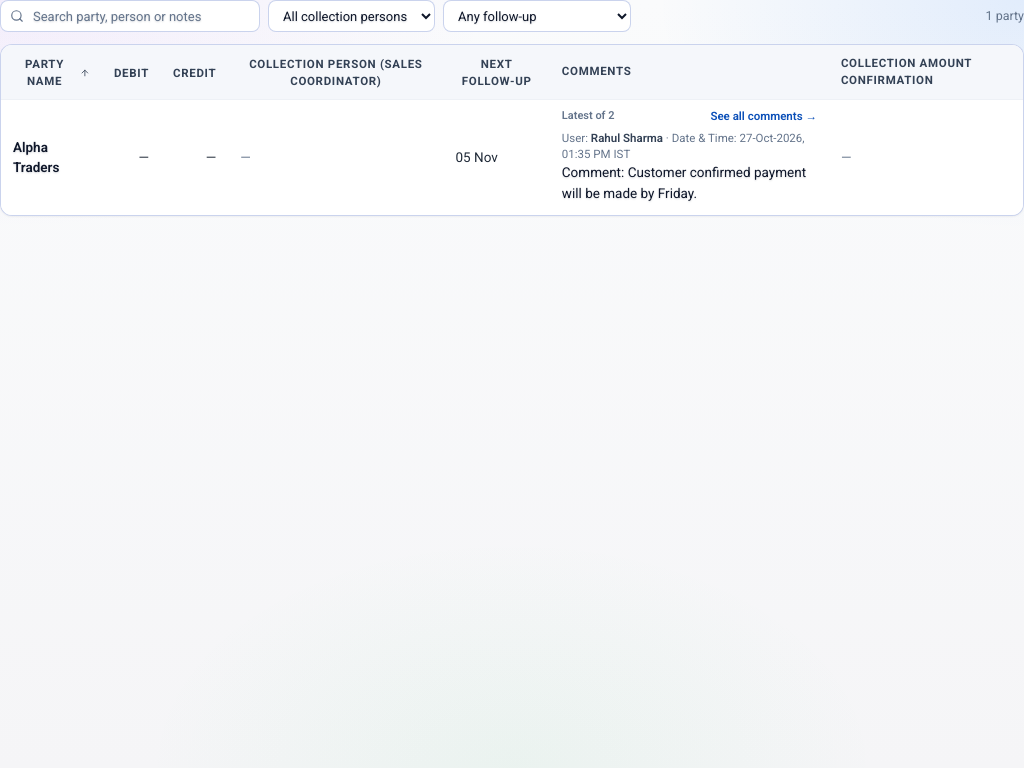
Test case: Party popup History › each entry shows who, date & time and the comment (no user id); a date-only entry shows its next date
Click the button "Alpha Traders": (51,157) [13,137,90,177]
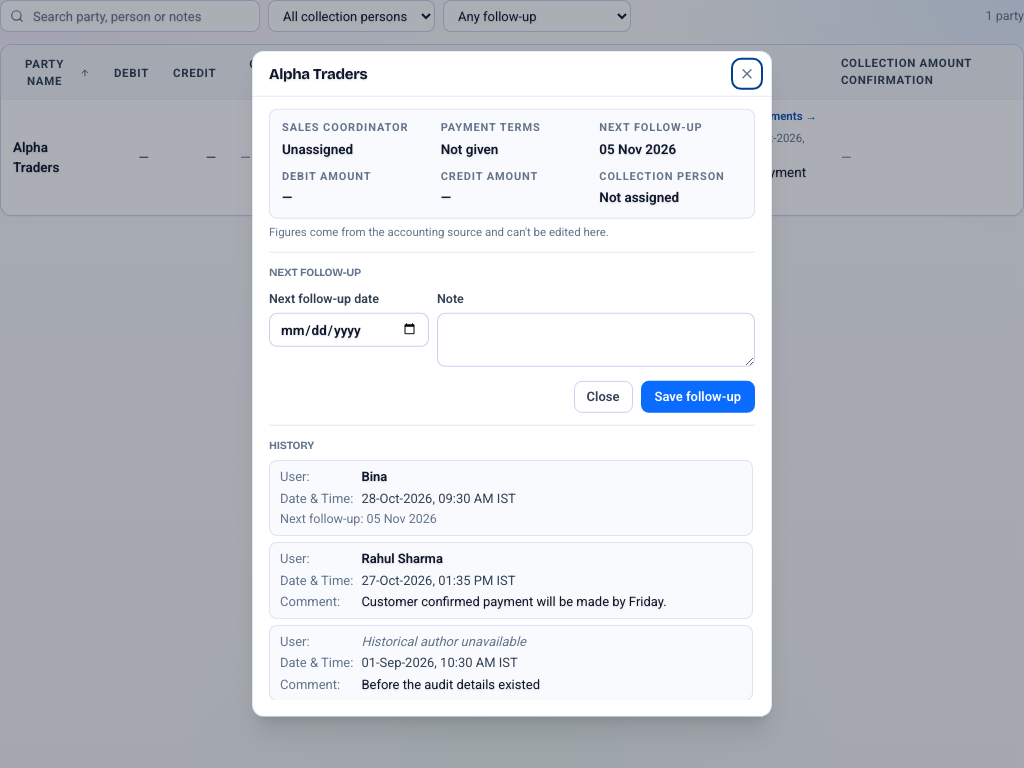
Now the 1st list item shows "Next follow-up: 05 Nov 2026", box [269,460,753,536]
